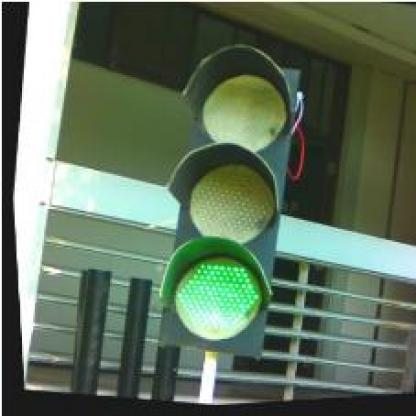green: (138, 33, 312, 359)
